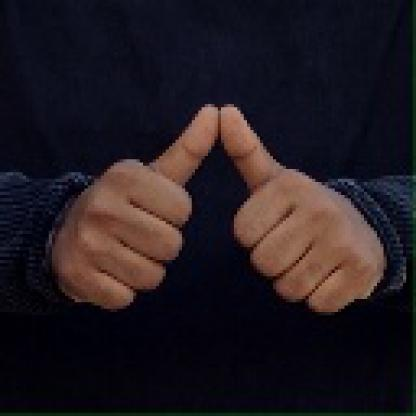A: (54, 98, 378, 325)
